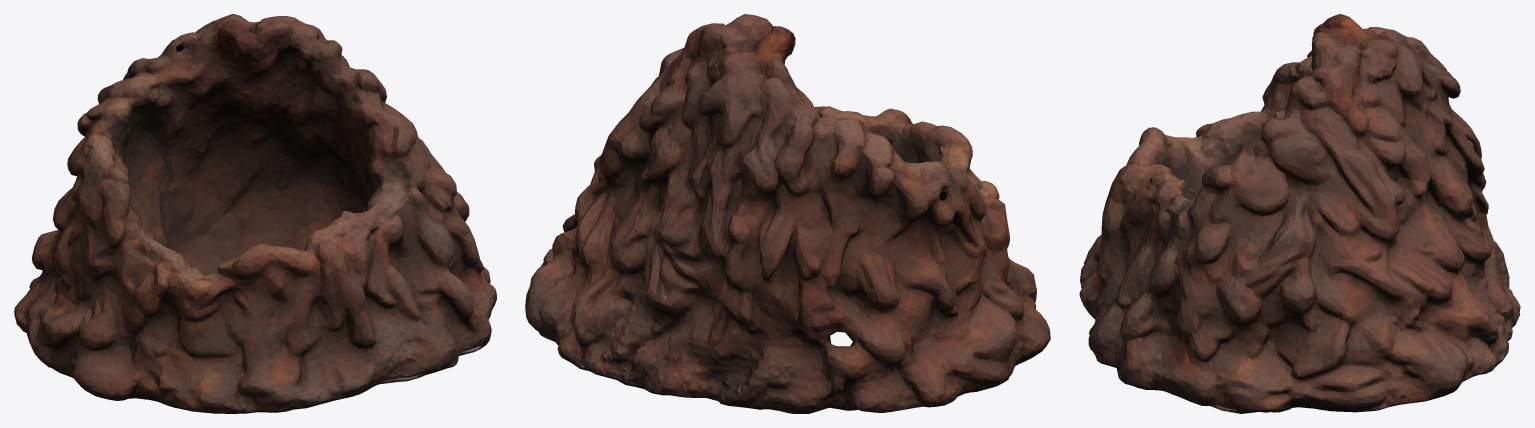
3 views of the same model, side by side, from view 1: azimuth 30°, elevation 25°; view 2: azimuth 150°, elevation 25°; view 3: azimuth 270°, elevation 25° (orthographic). The views are drawn at different scales.
Parts seen in each view (by area): view 1: world; view 2: world; view 3: world.
Part boxes in pixels (bbox=[...]): world: bbox=[14, 14, 496, 413]; world: bbox=[525, 14, 1050, 413]; world: bbox=[1079, 14, 1520, 413].
Size of the model in its own units: 0.9975 by 0.6684 by 0.8875.
Materials: 1 (1 with a texture image).
